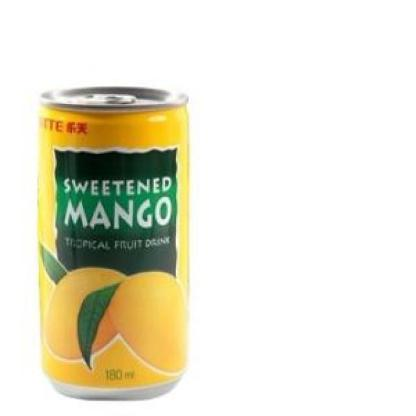Can: (20, 60, 210, 408)
